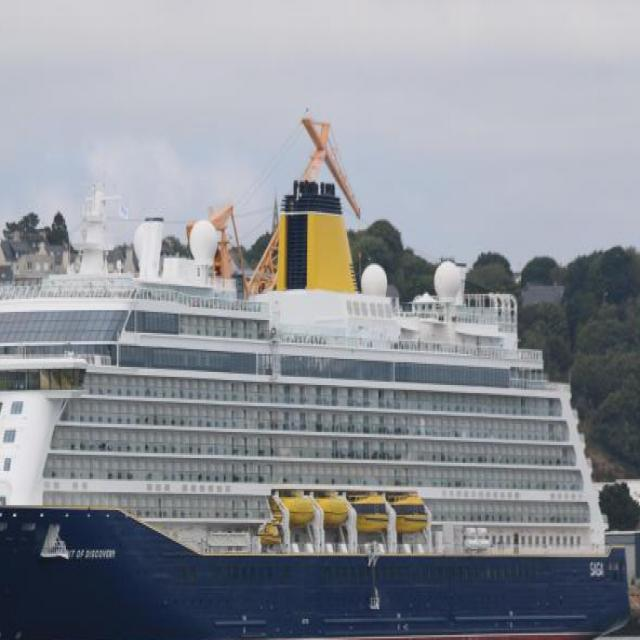cruises: (1, 175, 636, 640)
